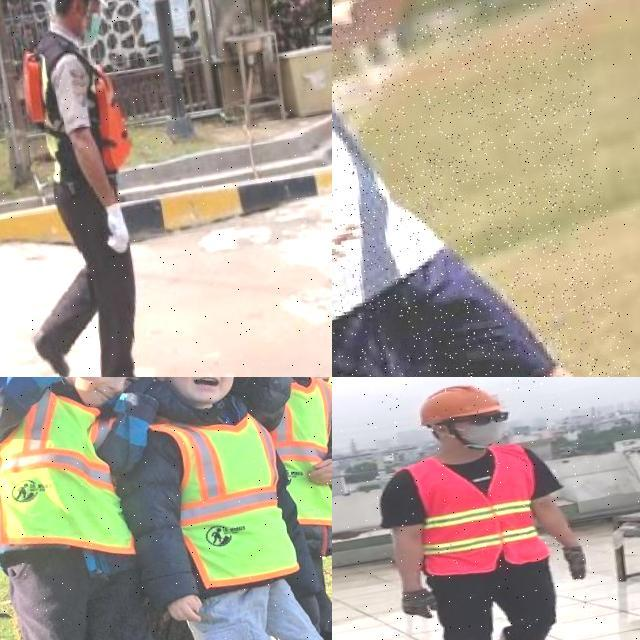boots: (28, 322, 73, 377), (489, 622, 555, 640)
helmet: (415, 377, 512, 430)
vest: (160, 383, 294, 601), (15, 30, 144, 202), (0, 392, 123, 561), (402, 442, 550, 579), (271, 377, 332, 538)
